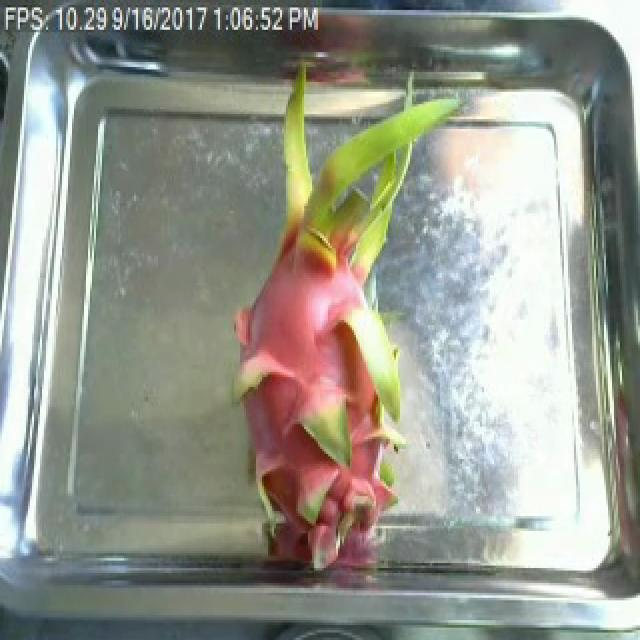fruit: (212, 139, 454, 570)
